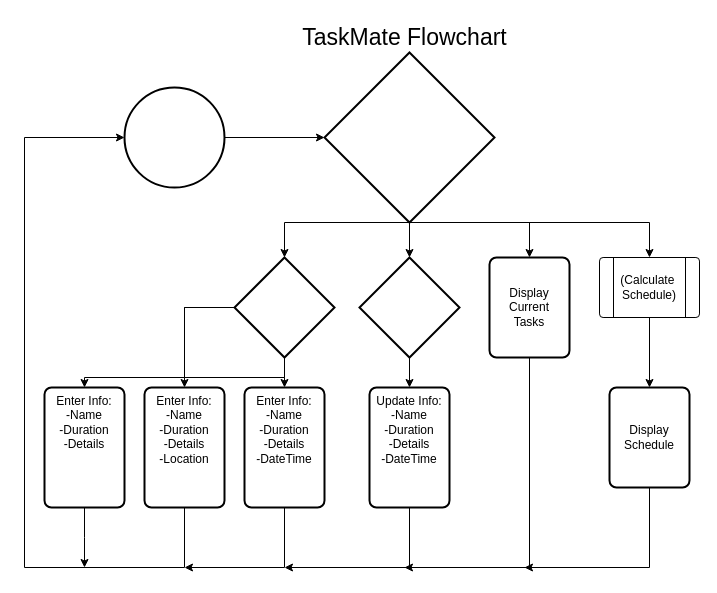
The diagram is 717 pixels wide and 593 high, and some of its shapes have lost their labels. Each missing label, with the centre of its shape:
1. Add Tasks 2. Edit Tasks 3. Display TaskList 4. Plan My Day!: the point at 409,137
1. Choose Task Type: the point at 284,307
2. Choose Task ID: the point at 409,307
Menu: the point at 174,137
